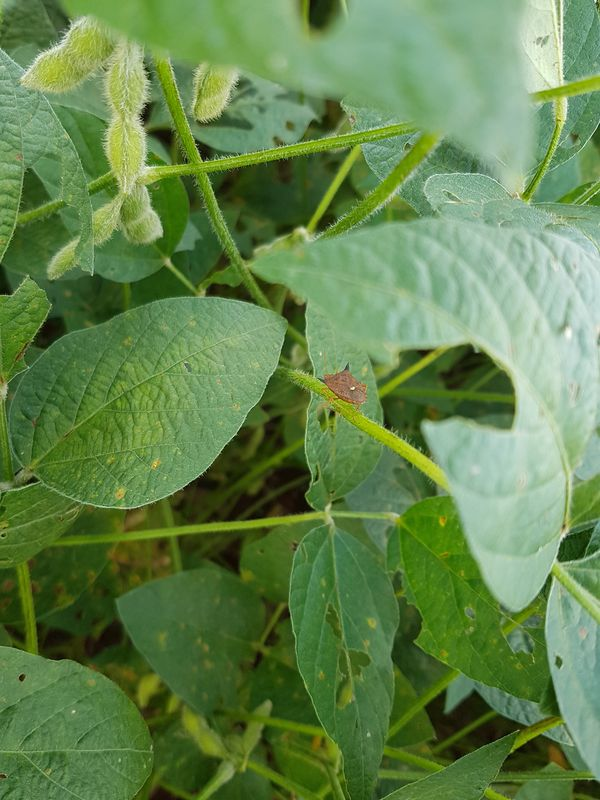Euschistus_heros_adulto: (307, 359, 377, 418)
